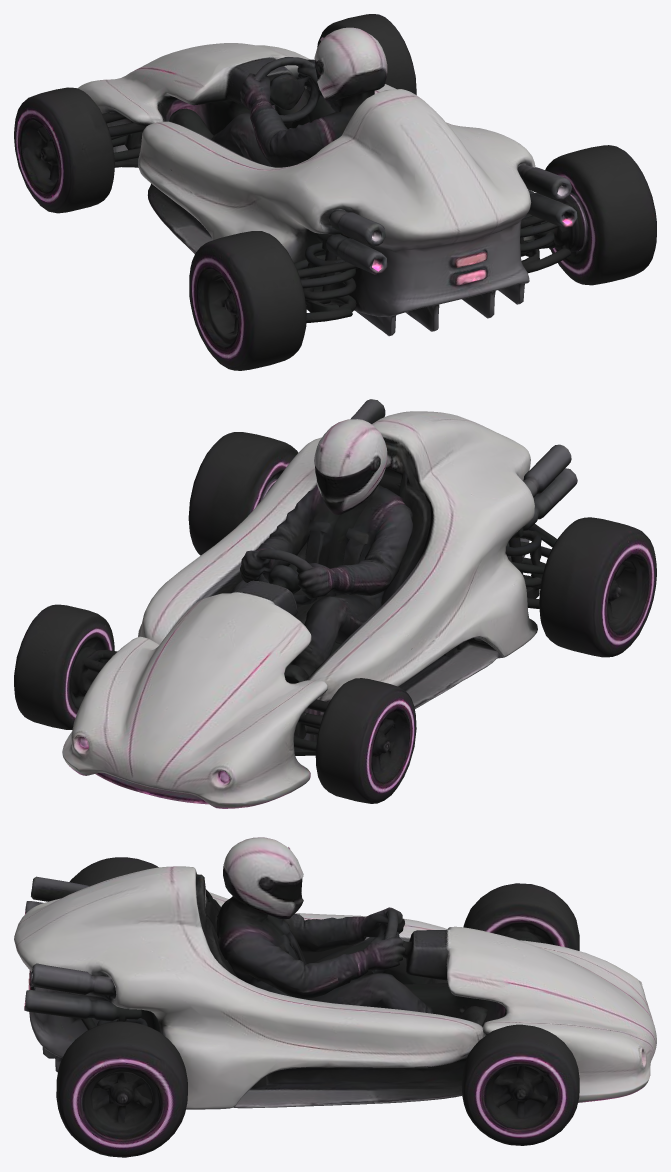
File: cognara-final.glb
The picture shows the model from 3 angles, top to bottom: view 1: azimuth 30°, elevation 25°; view 2: azimuth 150°, elevation 25°; view 3: azimuth 270°, elevation 25°; orthographic projection. The views are drawn at different scales.
Visible parts, largest first — view 1: chassis, wheel-rl, wheel-rr, wheel-fl, wheel-fr; view 2: chassis, wheel-rl, wheel-fl, wheel-fr, wheel-rr; view 3: chassis, wheel-rr, wheel-fr, wheel-fl, wheel-rl.
Boxes of the visible parts, box(x1,y1,x2,y2) form: chassis: box(78, 27, 577, 336); wheel-rl: box(189, 231, 306, 370); wheel-rr: box(545, 145, 656, 285); wheel-fl: box(14, 87, 114, 213); wheel-fr: box(317, 14, 416, 94); chassis: box(62, 399, 577, 808); wheel-rl: box(539, 517, 656, 657); wheel-fl: box(315, 678, 416, 803); wheel-fr: box(14, 604, 114, 729); wheel-rr: box(188, 432, 298, 555); chassis: box(14, 837, 656, 1109); wheel-rr: box(56, 1021, 187, 1157); wheel-fr: box(462, 1024, 579, 1145); wheel-fl: box(463, 883, 579, 950); wheel-rl: box(69, 857, 158, 886).
Size of the model in its own units: 3.19 by 1.76 by 4.5.
Materials: 1 (1 with a texture image).
